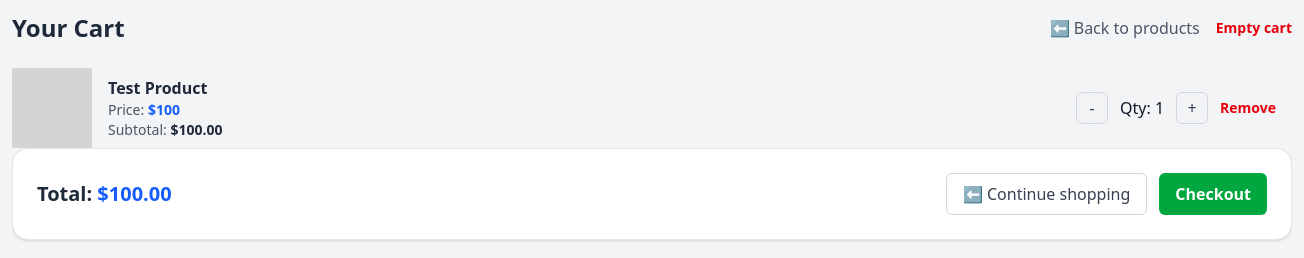
Test case: increases item quantity when clicking + button
expect the text "Qty: 1" is shown: met, box [1120,96,1164,120]
Click the button "+": (1192, 108) [1176,92,1208,124]
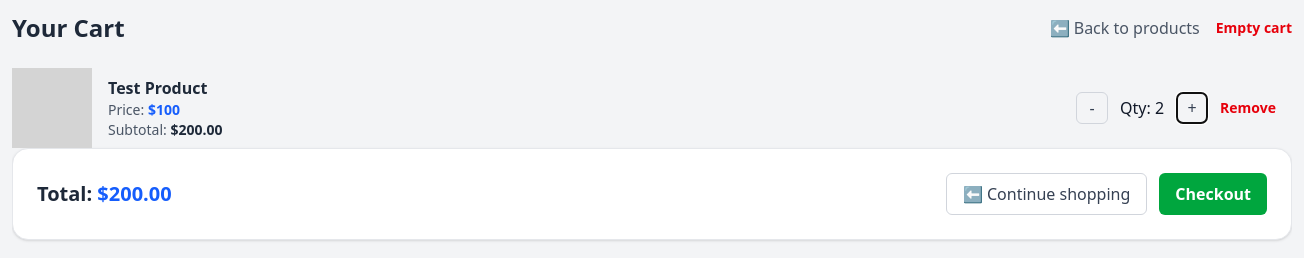
expect the text "Qty: 2" is shown: met, box [1120,96,1164,120]
